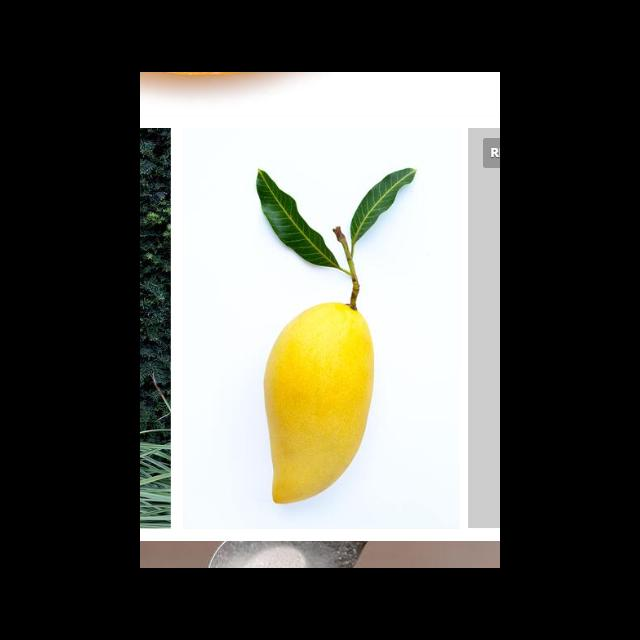mango: (260, 299, 376, 504)
